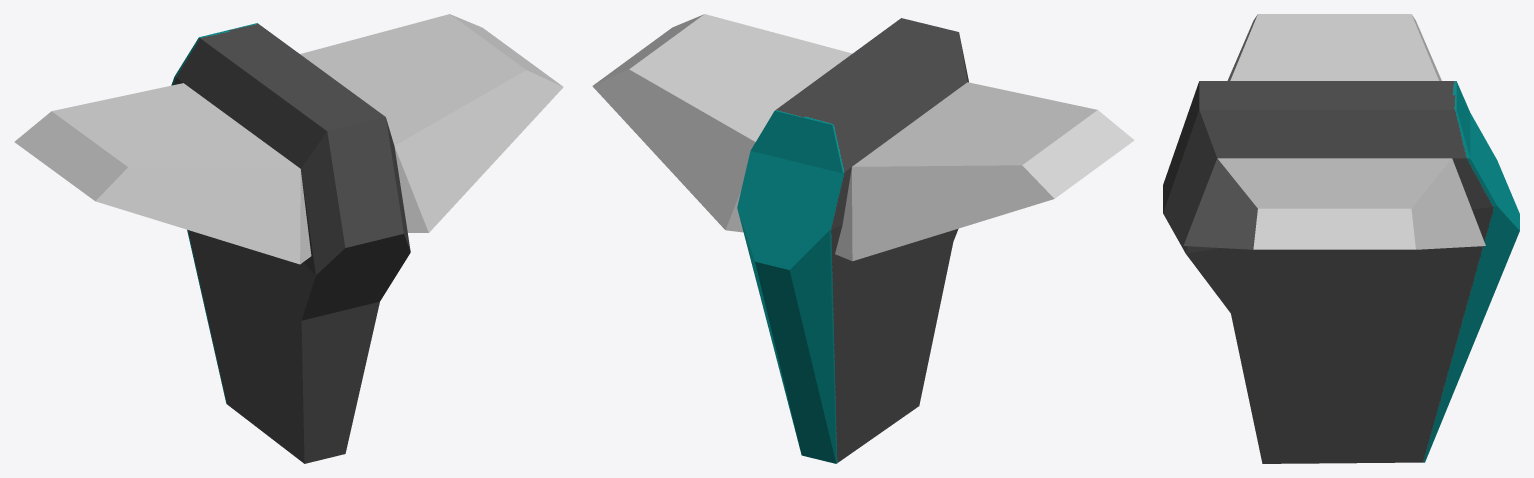
Rendered from BodyUnder.fbx.
3 renders of one model, left to right at view 1: azimuth 30°, elevation 25°; view 2: azimuth 150°, elevation 25°; view 3: azimuth 270°, elevation 25°, orthographic.
Parts seen in each view (by area): view 1: Shape_IndexedFaceSet.005; view 2: Shape_IndexedFaceSet.005; view 3: Shape_IndexedFaceSet.005.
Boxes of the visible parts, x1,y1,x2,y2 form: Shape_IndexedFaceSet.005: (14, 14, 563, 463); Shape_IndexedFaceSet.005: (592, 14, 1134, 463); Shape_IndexedFaceSet.005: (1163, 14, 1519, 463).
Bounding box in the file's own units: 0.4574 × 0.3339 × 0.3011.
Materials: 1 (1 with a texture image).
